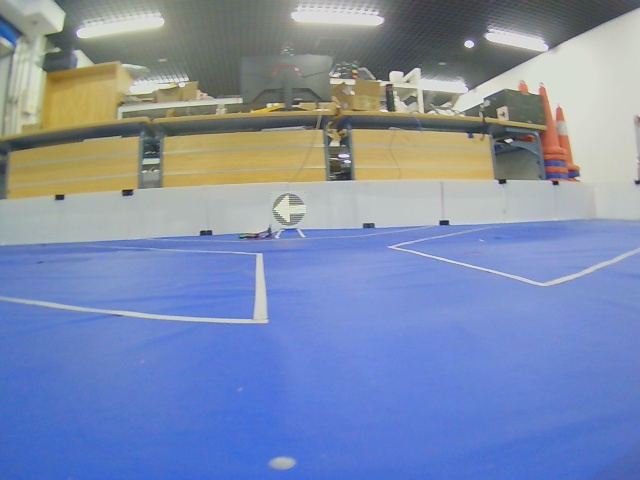left_yellow: (272, 193, 307, 227)
